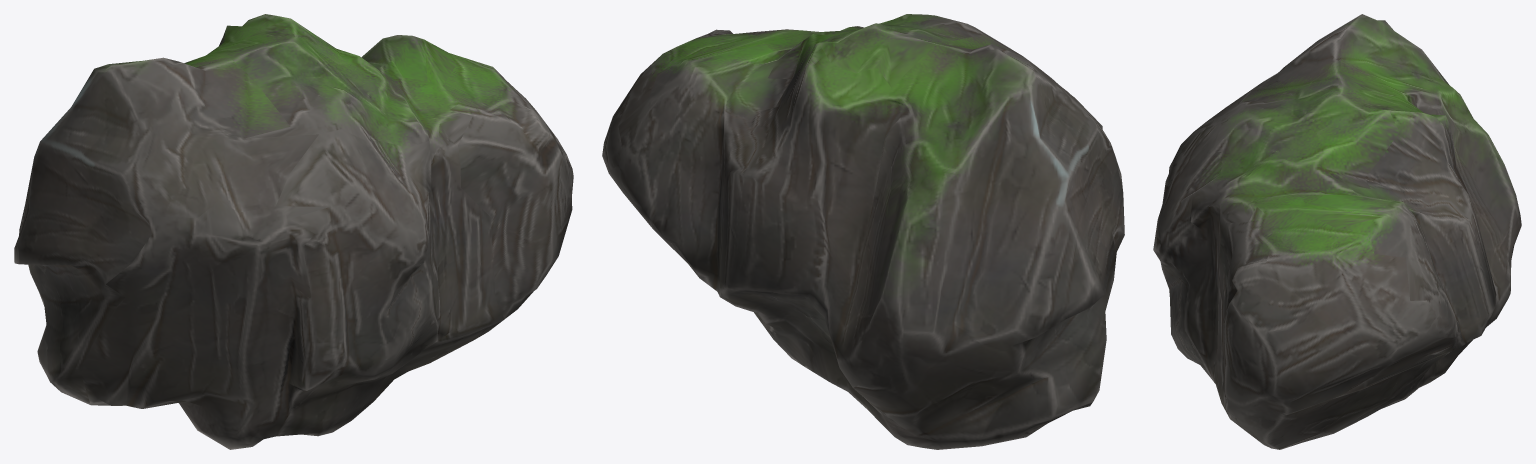
Rendered from rock.glb.
The picture shows the model from 3 angles, left to right: view 1: azimuth 30°, elevation 25°; view 2: azimuth 150°, elevation 25°; view 3: azimuth 270°, elevation 25°; orthographic projection. The views are drawn at different scales.
Parts seen in each view (by area): view 1: default1_Rock_0; view 2: default1_Rock_0; view 3: default1_Rock_0.
Boxes of the visible parts, left/top/right/bottom form: default1_Rock_0: left=14, top=14, right=573, bottom=449; default1_Rock_0: left=602, top=14, right=1124, bottom=449; default1_Rock_0: left=1153, top=14, right=1521, bottom=449.
Size of the model in its own units: 5 by 3.58 by 3.45.
Materials: 1 (1 with a texture image).
